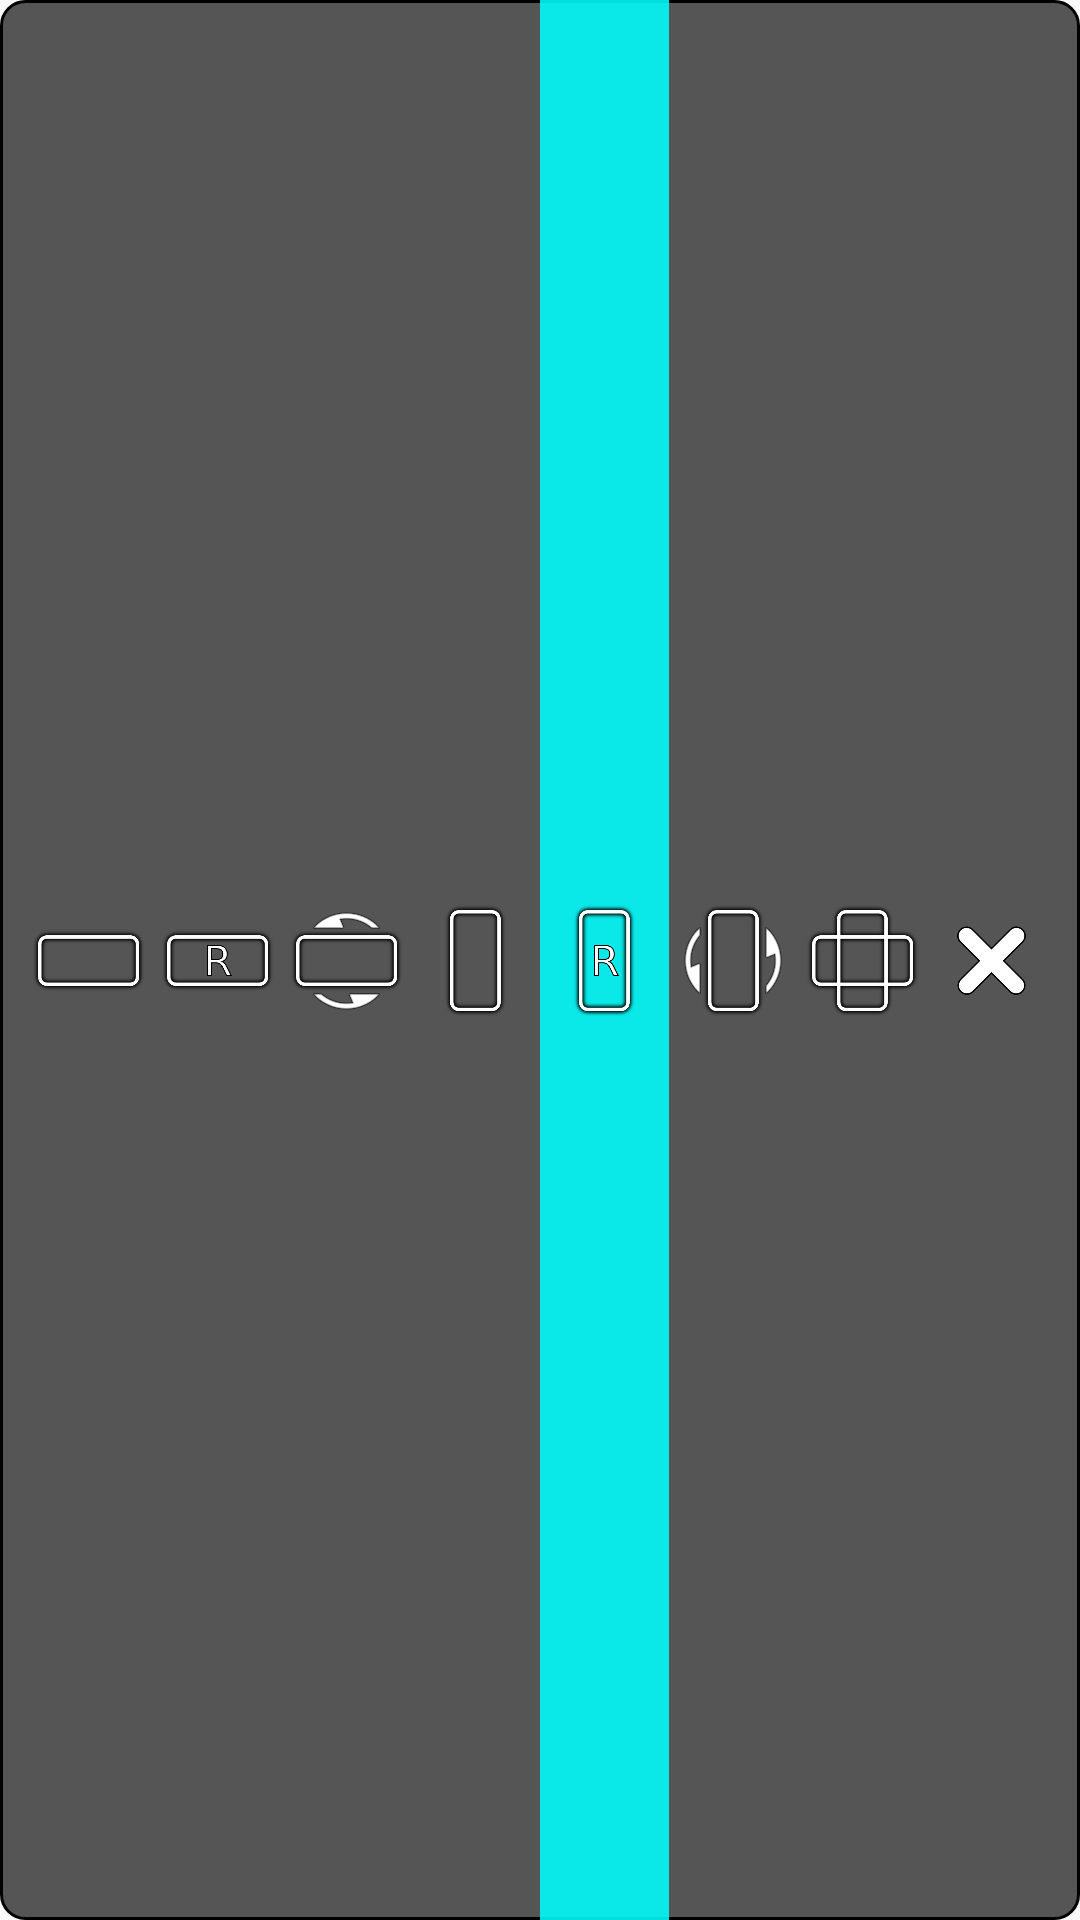

Named icons in this screenshot (1080px×1920px) and their bounding boxes, (x1, y1, x2, y2):
Landscape: (36, 933, 142, 989)
Portrait: (447, 908, 503, 1014)
Reverse landscape: (165, 933, 271, 989)
Sensor landscape: (294, 912, 400, 1009)
Sensor orientation: (810, 908, 916, 1014)
Sensor portrait: (684, 908, 782, 1014)
Stop service: (957, 926, 1026, 995)
